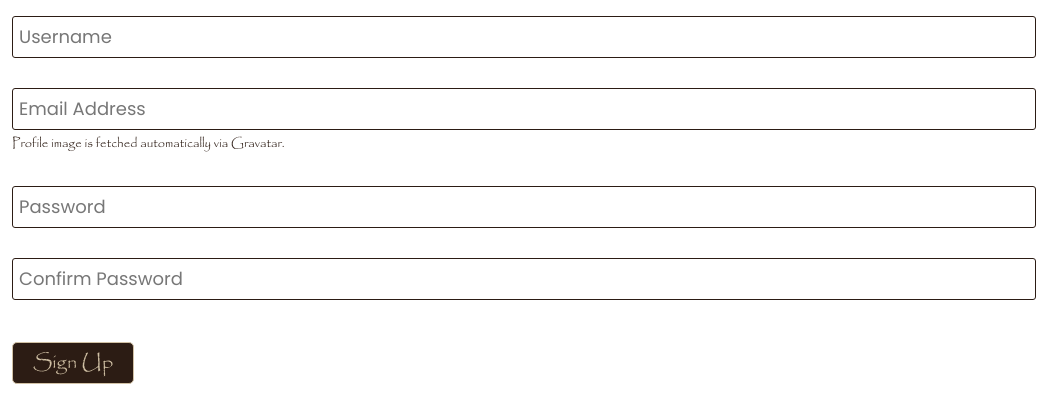
Test: Register Form › shows validation error on email invalid
Type "radu@example" into the field labelled "Email Address" at (524, 109), box [12, 88, 1036, 130]
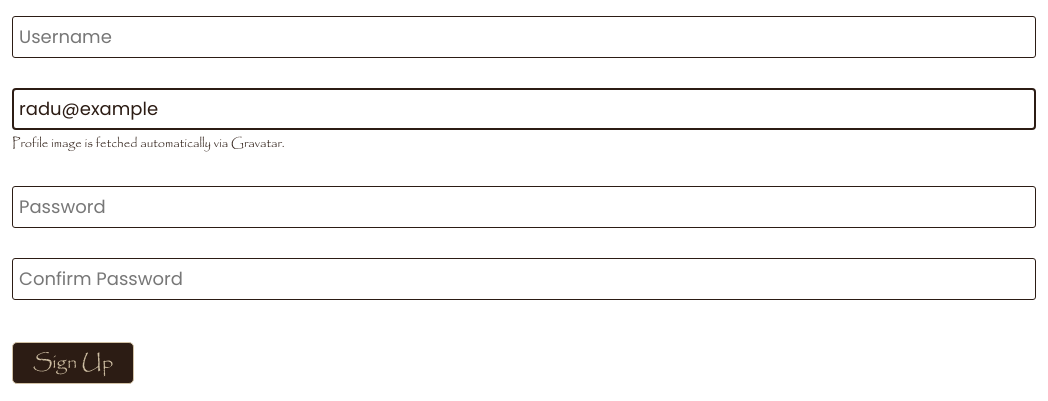
Click the button "Sign Up" at (73, 363), box [12, 342, 134, 384]
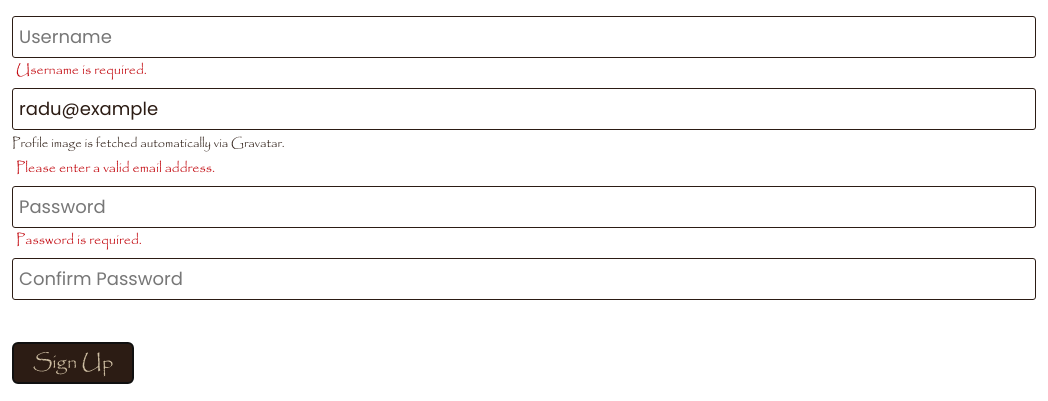
Now the text "Please enter a valid email address." is shown, box [16, 157, 215, 179]
